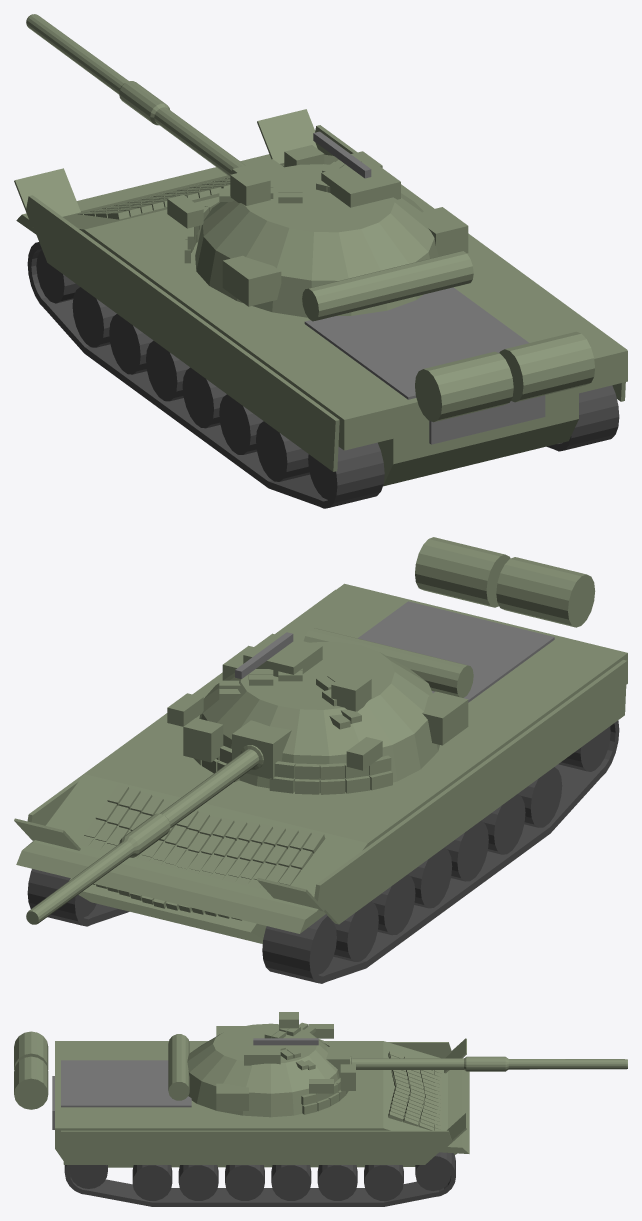
The picture shows the model from 3 angles, top to bottom: view 1: azimuth 30°, elevation 25°; view 2: azimuth 150°, elevation 25°; view 3: azimuth 270°, elevation 25°; orthographic projection. The views are drawn at different scales.
Visible parts, largest first — view 1: Hull_Upper, Turret, Skirt_L, Grille_Deck_Turbine, Hull, Track_L, Snorkel, Drum_L, Barrel, Drum_R, Grille_Exhaust, Track_R (+18 smaller); view 2: Hull_Upper, Skirt_L, Turret, Hull, Track_L, Grille_Deck_Turbine, Barrel, Drum_L, Drum_R, Snorkel, Track_R, Mantlet (+18 smaller); view 3: Skirt_R, Hull_Upper, Turret, Grille_Deck_Turbine, Track_R, Hull, Barrel, Drum_R, Snorkel, Wheel_R_02, Wheel_R_03, Wheel_R_06 (+16 smaller).
Boxes of the visible parts, left/top/right/bottom form: Hull_Upper: left=16, top=154, right=627, bottom=450; Turret: left=195, top=164, right=438, bottom=317; Skirt_L: left=26, top=195, right=339, bottom=471; Grille_Deck_Turbine: left=304, top=287, right=528, bottom=399; Hull: left=165, top=197, right=578, bottom=486; Track_L: left=27, top=242, right=384, bottom=508; Snorkel: left=302, top=251, right=473, bottom=321; Drum_L: left=415, top=351, right=513, bottom=422; Barrel: left=26, top=14, right=245, bottom=176; Drum_R: left=499, top=331, right=595, bottom=402; Grille_Exhaust: left=429, top=395, right=545, bottom=444; Track_R: left=547, top=385, right=619, bottom=451; Hull_Upper: left=16, top=583, right=627, bottom=933; Skirt_L: left=314, top=660, right=627, bottom=924; Turret: left=199, top=642, right=439, bottom=792; Hull: left=69, top=596, right=577, bottom=943; Track_L: left=262, top=720, right=619, bottom=983; Grille_Deck_Turbine: left=358, top=601, right=554, bottom=702; Barrel: left=26, top=745, right=263, bottom=924; Drum_L: left=496, top=557, right=595, bottom=627; Drum_R: left=415, top=537, right=510, bottom=607; Snorkel: left=303, top=628, right=473, bottom=697; Track_R: left=27, top=869, right=129, bottom=926; Mantlet: left=232, top=720, right=291, bottom=779; Skirt_R: left=61, top=1130, right=451, bottom=1164; Hull_Upper: left=55, top=1041, right=469, bottom=1153; Turret: left=187, top=1023, right=339, bottom=1117; Grille_Deck_Turbine: left=61, top=1060, right=191, bottom=1107; Track_R: left=64, top=1152, right=455, bottom=1206; Hull: left=55, top=1056, right=457, bottom=1167; Barrel: left=350, top=1056, right=627, bottom=1071; Drum_R: left=14, top=1056, right=48, bottom=1109; Snorkel: left=168, top=1034, right=189, bottom=1100; Wheel_R_02: left=317, top=1165, right=357, bottom=1200; Wheel_R_03: left=271, top=1165, right=311, bottom=1200; Wheel_R_06: left=132, top=1165, right=172, bottom=1200.
Bounding box in the file's own units: 3.58 × 2.53 × 10.34.
